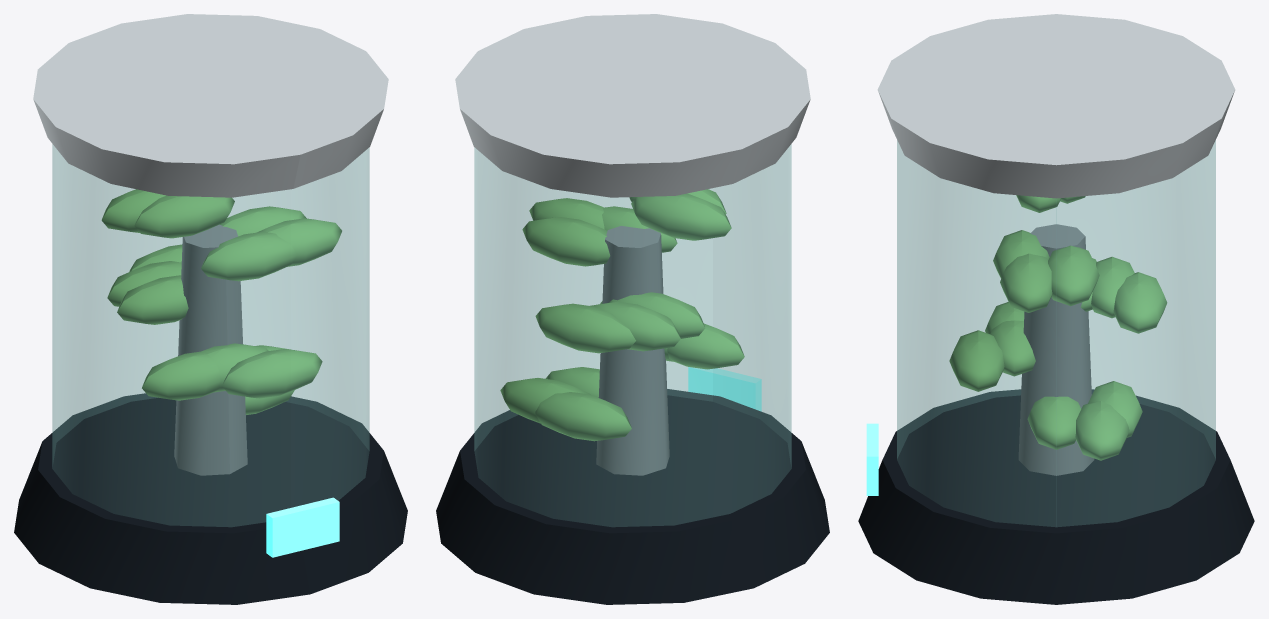
The model's file is SM_EcologyPod.glb.
The picture shows the model from 3 angles, left to right: view 1: azimuth 30°, elevation 25°; view 2: azimuth 150°, elevation 25°; view 3: azimuth 270°, elevation 25°; orthographic projection.
Visible parts, largest first — view 1: EcoPod_Glass, EcoPod_Base, EcoPod_Top, EcoPod_Trunk, EcoPod_Leaf_11, EcoPod_Leaf_3, EcoPod_Status, EcoPod_Leaf_9, EcoPod_Leaf_1, EcoPod_Leaf_12, EcoPod_Leaf_8, EcoPod_Leaf_4 (+5 smaller); view 2: EcoPod_Glass, EcoPod_Base, EcoPod_Top, EcoPod_Trunk, EcoPod_Leaf_2, EcoPod_Leaf_4, EcoPod_Leaf_10, EcoPod_Leaf_13, EcoPod_Leaf_1, EcoPod_Leaf_7, EcoPod_Status, EcoPod_Leaf_5 (+4 smaller); view 3: EcoPod_Glass, EcoPod_Base, EcoPod_Top, EcoPod_Trunk, EcoPod_Leaf_11, EcoPod_Leaf_5, EcoPod_Leaf_2, EcoPod_Leaf_8, EcoPod_Leaf_13, EcoPod_Leaf_0, EcoPod_Leaf_6, EcoPod_Leaf_7 (+5 smaller).
Part boxes in pixels (x1,y1,x2,y2): EcoPod_Glass: (52, 144, 369, 526); EcoPod_Base: (14, 393, 407, 604); EcoPod_Top: (33, 14, 388, 197); EcoPod_Trunk: (174, 224, 247, 475); EcoPod_Leaf_11: (222, 349, 322, 398); EcoPod_Leaf_3: (201, 231, 296, 281); EcoPod_Status: (266, 497, 339, 557); EcoPod_Leaf_9: (134, 195, 234, 238); EcoPod_Leaf_1: (142, 351, 220, 400); EcoPod_Leaf_12: (117, 275, 188, 324); EcoPod_Leaf_8: (257, 218, 341, 266); EcoPod_Leaf_4: (101, 189, 165, 232); EcoPod_Glass: (474, 144, 791, 526); EcoPod_Base: (436, 389, 829, 604); EcoPod_Top: (455, 14, 810, 197); EcoPod_Trunk: (596, 226, 669, 475); EcoPod_Leaf_2: (535, 303, 635, 353); EcoPod_Leaf_4: (631, 193, 731, 240); EcoPod_Leaf_10: (535, 392, 631, 441); EcoPod_Leaf_13: (522, 217, 610, 266); EcoPod_Leaf_1: (667, 323, 744, 369); EcoPod_Leaf_7: (590, 301, 680, 351); EcoPod_Status: (688, 367, 761, 411); EcoPod_Leaf_5: (500, 378, 590, 423); EcoPod_Glass: (897, 140, 1215, 526); EcoPod_Base: (858, 389, 1254, 604); EcoPod_Top: (877, 14, 1235, 198); EcoPod_Trunk: (1018, 224, 1094, 475); EcoPod_Leaf_11: (949, 330, 1004, 391); EcoPod_Leaf_5: (1075, 401, 1129, 460); EcoPod_Leaf_2: (1113, 272, 1167, 333); EcoPod_Leaf_8: (1000, 253, 1052, 312); EcoPod_Leaf_13: (1048, 245, 1099, 306); EcoPod_Leaf_0: (1027, 396, 1081, 449); EcoPod_Leaf_6: (990, 320, 1035, 376); EcoPod_Leaf_7: (1091, 256, 1134, 318).
Bounding box in the file's own units: 1.64 × 1.97 × 1.64.
